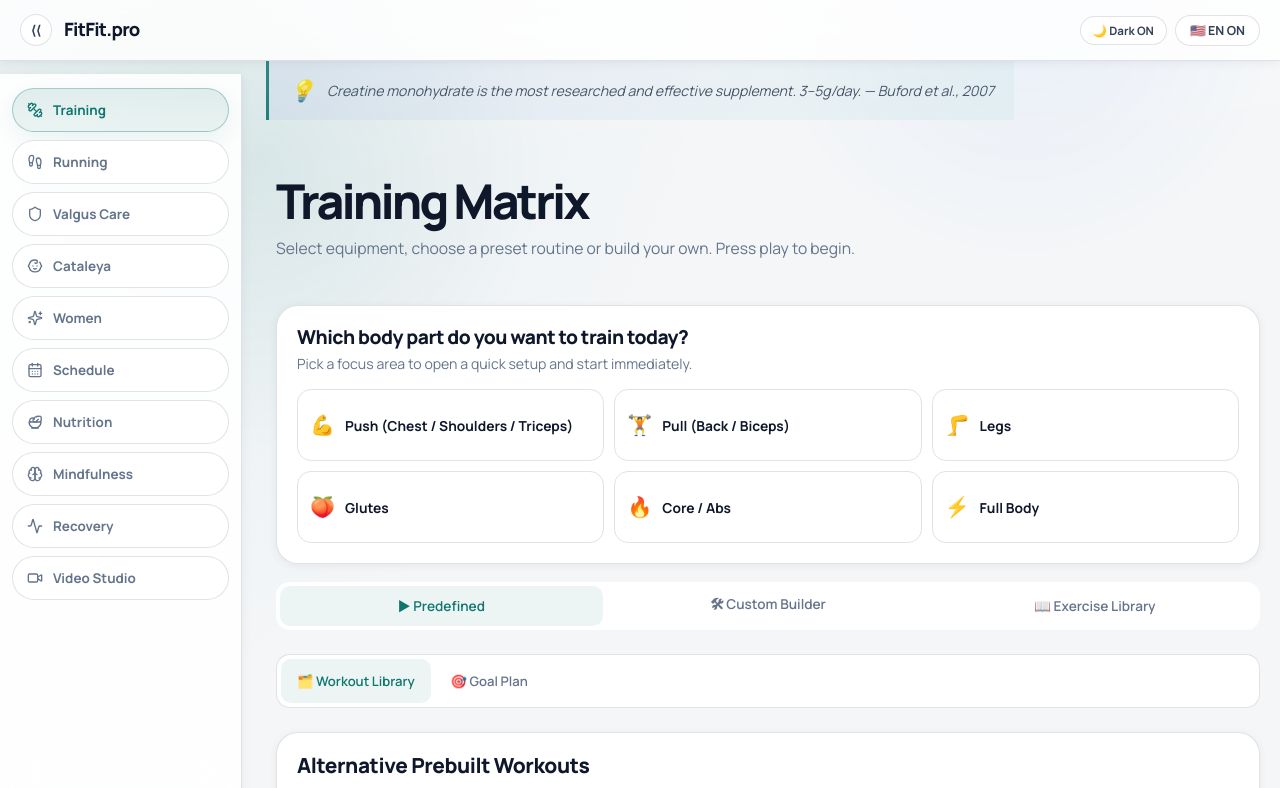
Scenario: App navigation › switches tabs and updates header
Click the button "Running" at (120, 162), box [12,140,229,184]
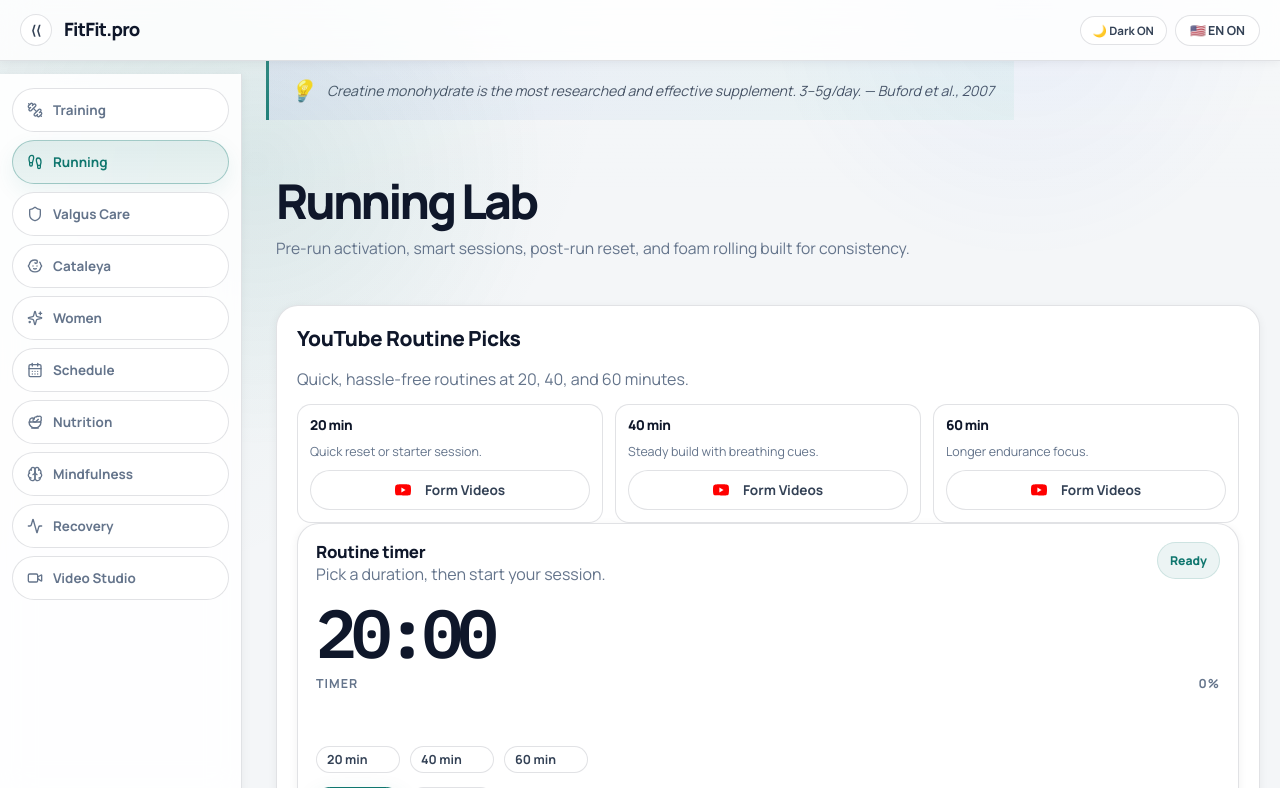
Result: the heading "Running Lab" is shown at [276,168,536,233]
